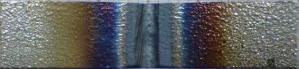soldas: (51, 1, 233, 67)
